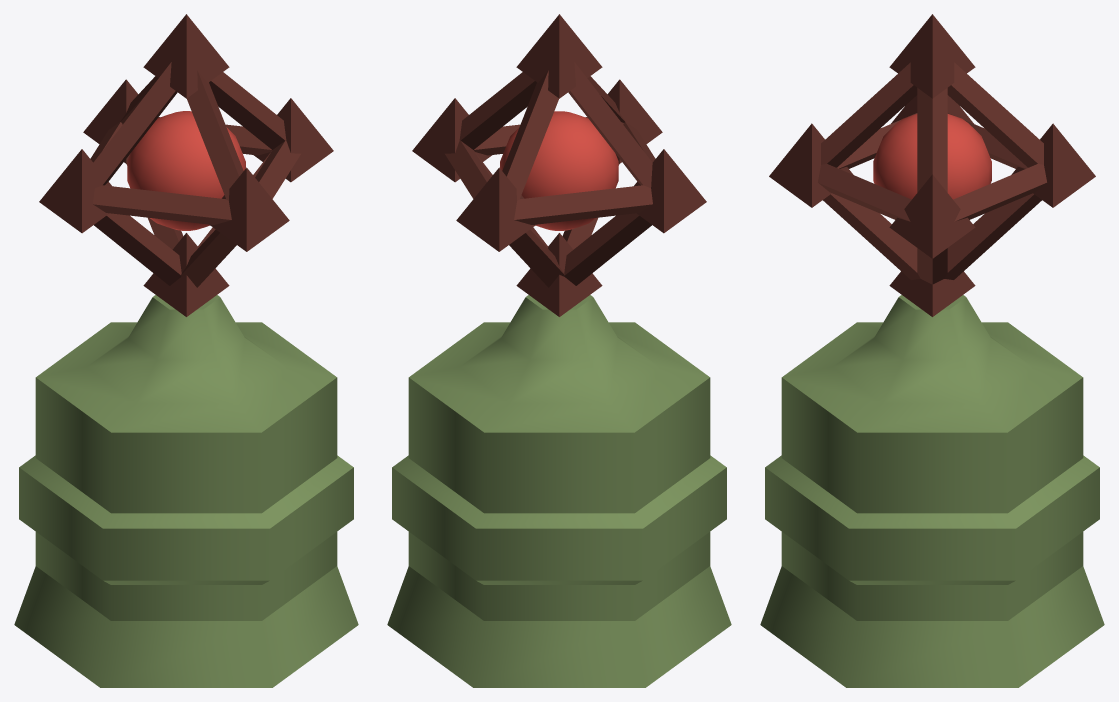
The model's file is Pyro.glb.
3 renders of one model, left to right at view 1: azimuth 30°, elevation 25°; view 2: azimuth 150°, elevation 25°; view 3: azimuth 270°, elevation 25°, orthographic.
Visible parts, largest first — view 1: Rectangle001, Sphere005, Sphere006; view 2: Rectangle001, Sphere005, Sphere006; view 3: Rectangle001, Sphere005, Sphere006.
Boxes of the visible parts, x1,y1,x2,y2 form: Rectangle001: (14,295,358,687); Sphere005: (39,14,333,316); Sphere006: (127,111,245,230); Rectangle001: (387,295,731,687); Sphere005: (412,14,706,316); Sphere006: (500,111,618,230); Rectangle001: (760,295,1104,687); Sphere005: (769,14,1095,316); Sphere006: (873,114,991,199).
Bounding box in the file's own units: 21.2 × 44.73 × 22.86.
